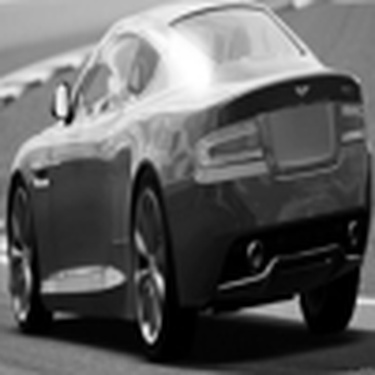car: (5, 4, 369, 369)
